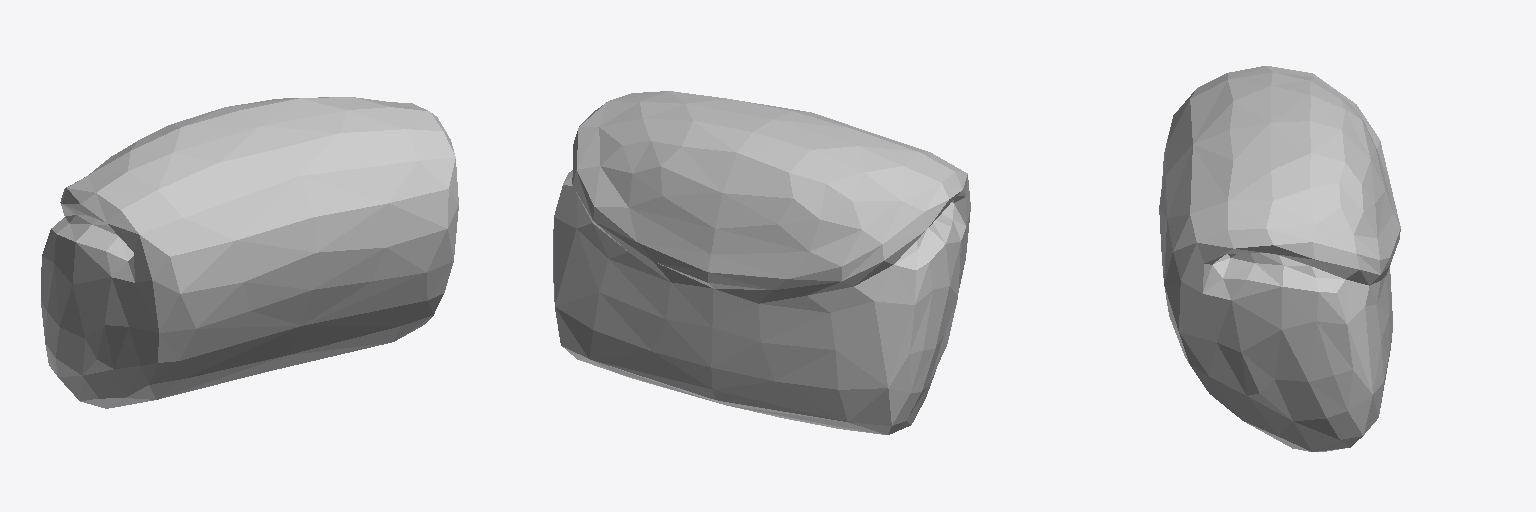
The model's file is Satchel.OBJ.
3 views of the same model, side by side, from view 1: azimuth 30°, elevation 25°; view 2: azimuth 150°, elevation 25°; view 3: azimuth 270°, elevation 25° (orthographic).
Parts seen in each view (by area): view 1: Group61077; view 2: Group61077; view 3: Group61077.
Boxes of the visible parts, x1=… form: Group61077: x1=41, y1=97, x2=458, y2=408; Group61077: x1=553, y1=91, x2=970, y2=434; Group61077: x1=1159, y1=66, x2=1400, y2=451.
Bounding box in the file's own units: 30.06 × 21.14 × 17.16.